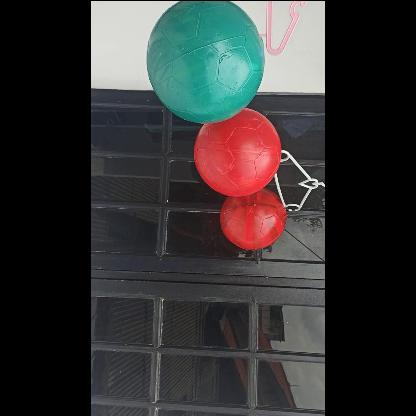red_ball: (193, 106, 280, 194)
